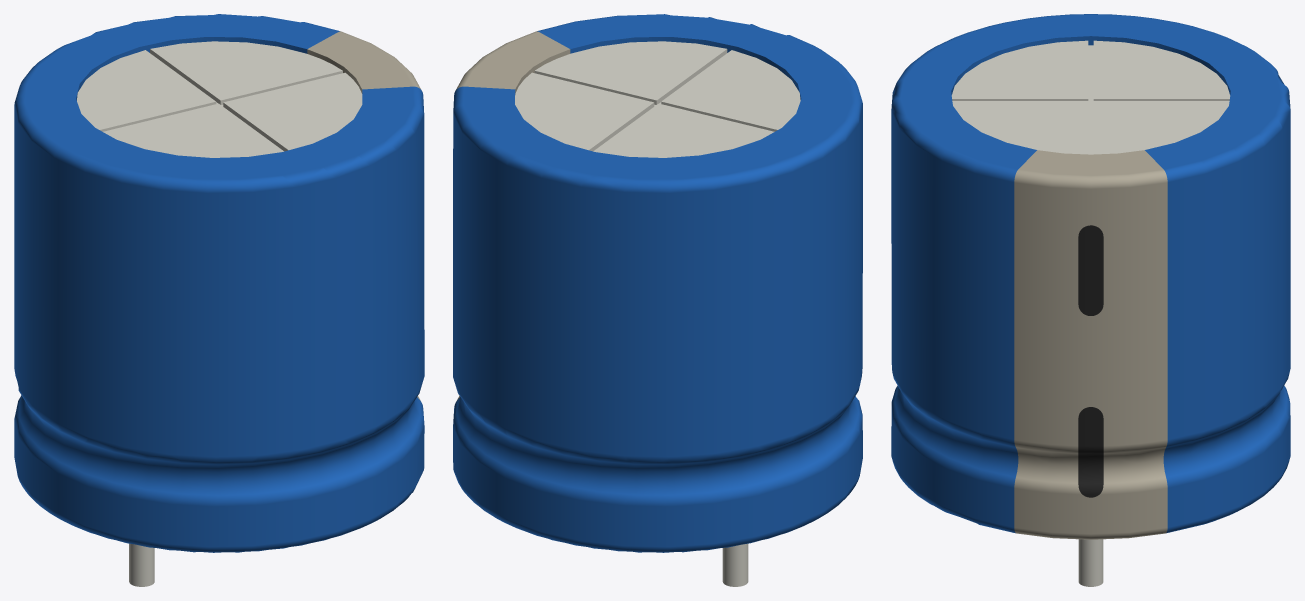
The model's file is capacitor.glb.
3 renders of one model, left to right at view 1: azimuth 30°, elevation 25°; view 2: azimuth 150°, elevation 25°; view 3: azimuth 270°, elevation 25°, orthographic. The views are drawn at different scales.
Visible parts, largest first — view 1: CP_Radial_D80mm_P350mm_dc7f20, CP_Radial_D80mm_P350mm_39cf8c, CP_Radial_D80mm_P350mm_56cede; view 2: CP_Radial_D80mm_P350mm_dc7f20, CP_Radial_D80mm_P350mm_39cf8c, CP_Radial_D80mm_P350mm_56cede; view 3: CP_Radial_D80mm_P350mm_dc7f20, CP_Radial_D80mm_P350mm_56cede, CP_Radial_D80mm_P350mm_39cf8c, CP_Radial_D80mm_P350mm_04a118.
Boxes of the visible parts, x1,y1,x2,y2 form: CP_Radial_D80mm_P350mm_dc7f20: (14, 14, 424, 552); CP_Radial_D80mm_P350mm_39cf8c: (77, 41, 362, 586); CP_Radial_D80mm_P350mm_56cede: (307, 31, 420, 400); CP_Radial_D80mm_P350mm_dc7f20: (453, 14, 862, 552); CP_Radial_D80mm_P350mm_39cf8c: (515, 41, 800, 586); CP_Radial_D80mm_P350mm_56cede: (455, 31, 570, 400); CP_Radial_D80mm_P350mm_dc7f20: (891, 14, 1290, 533); CP_Radial_D80mm_P350mm_56cede: (1014, 150, 1167, 539); CP_Radial_D80mm_P350mm_39cf8c: (951, 40, 1230, 586); CP_Radial_D80mm_P350mm_04a118: (1078, 225, 1103, 497).
Bounding box in the file's own units: 0.7983 × 1 × 0.7975.
